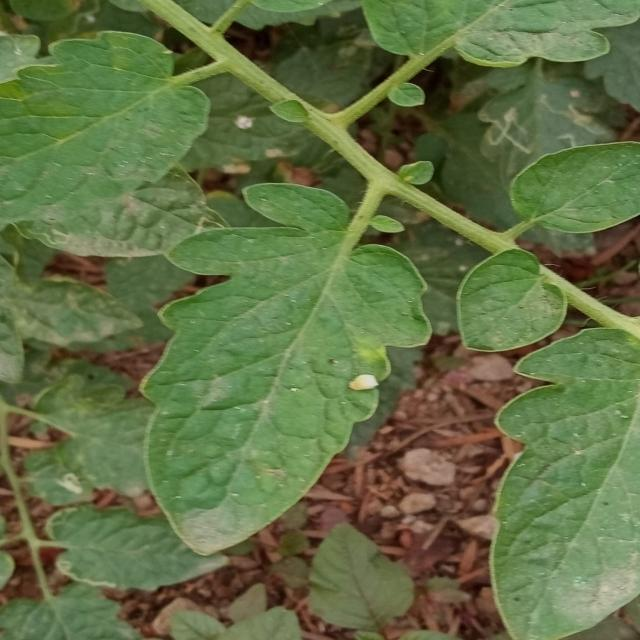Healthy: (37, 126, 498, 572), (0, 0, 228, 272), (492, 329, 639, 639), (435, 236, 577, 371), (506, 140, 640, 240)
